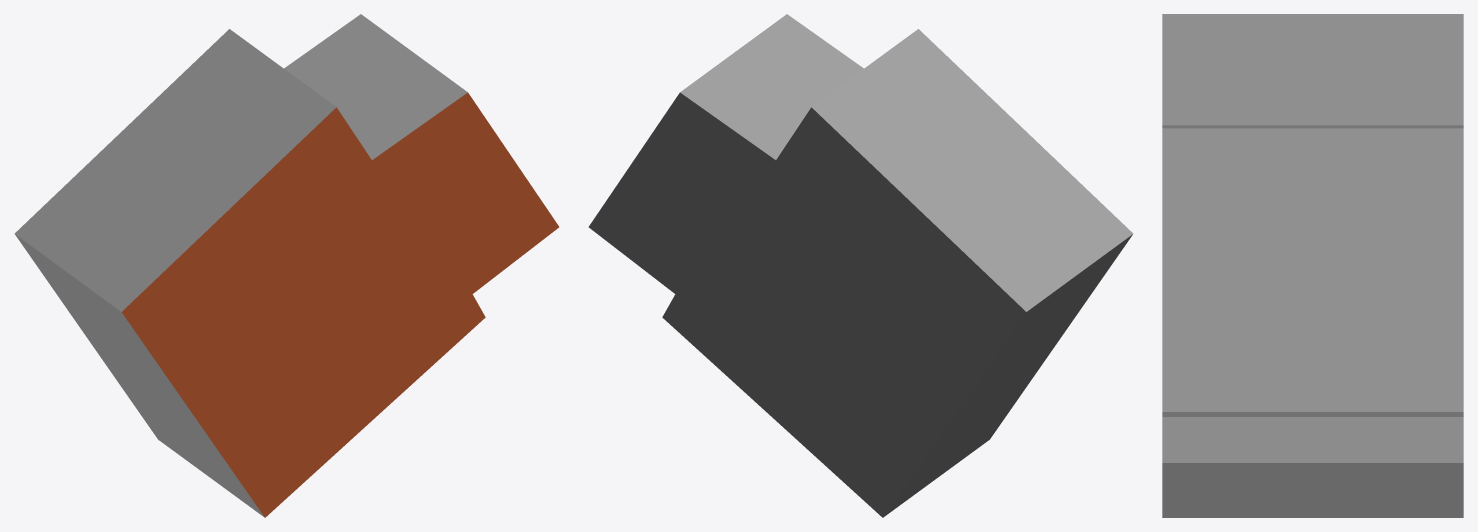
The model's file is construction_1698_assumed_A_Casa_h6m.obj.
3 renders of one model, left to right at view 1: azimuth 30°, elevation 25°; view 2: azimuth 150°, elevation 25°; view 3: azimuth 270°, elevation 25°, orthographic. The views are drawn at different scales.
Parts seen in each view (by area): view 1: construction_1698_assumed_A_Casa; view 2: construction_1698_assumed_A_Casa; view 3: construction_1698_assumed_A_Casa.
Part boxes in pixels (x1,y1,x2,y2): construction_1698_assumed_A_Casa: (14, 14, 559, 517); construction_1698_assumed_A_Casa: (588, 14, 1133, 517); construction_1698_assumed_A_Casa: (1162, 14, 1463, 517).
Bounding box in the file's own units: 14.17 × 12.16 × 6.
